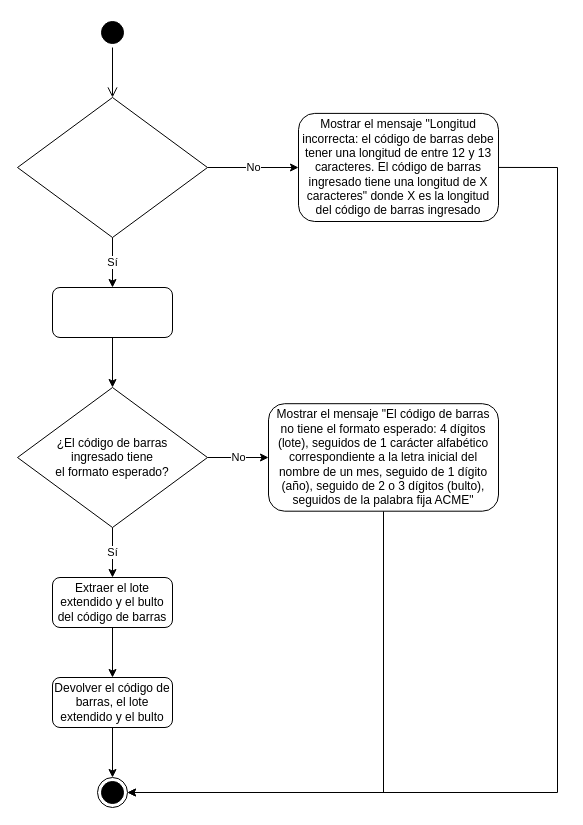
This 583x825 diagram has some shape labels left out. The shapes that lost their labels are listed below. From the top down, each one's centre as x and y in pixels, then its label:
the point at 112,167: ¿El código de barras ingresado tiene una longitud de entre 12 y 13 caracteres?
the point at 112,312: Convertir el código de barras a mayúsculas
